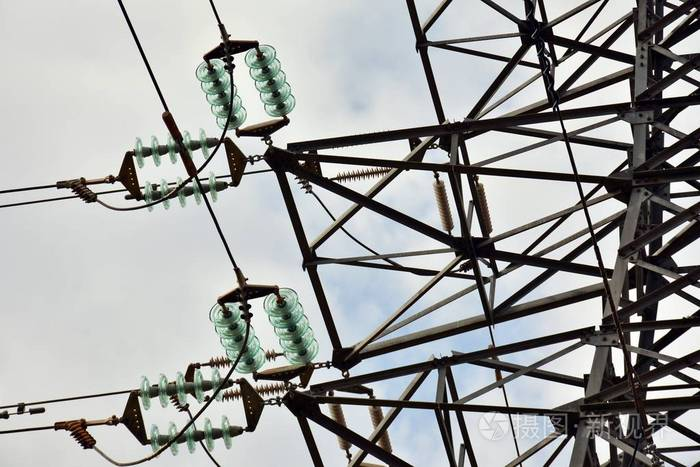insulator: (139, 367, 231, 412), (267, 284, 319, 363), (149, 414, 236, 461), (212, 302, 264, 373), (247, 44, 297, 115), (198, 56, 244, 130), (135, 128, 215, 170), (142, 174, 219, 214), (433, 179, 456, 233), (474, 182, 495, 236), (331, 166, 390, 184)
